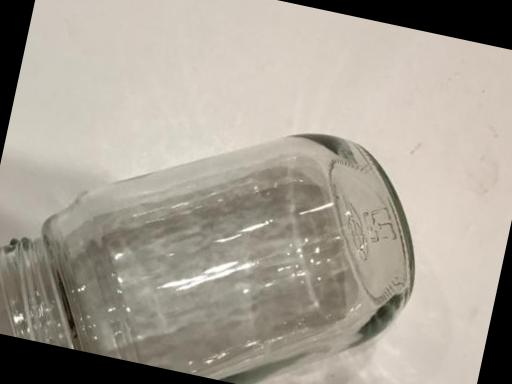glass: (0, 58, 471, 384)
